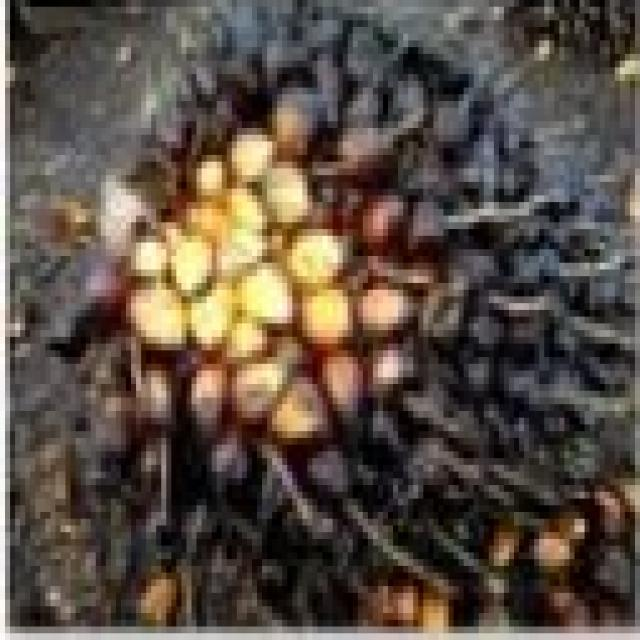FFB: (90, 13, 634, 627)
